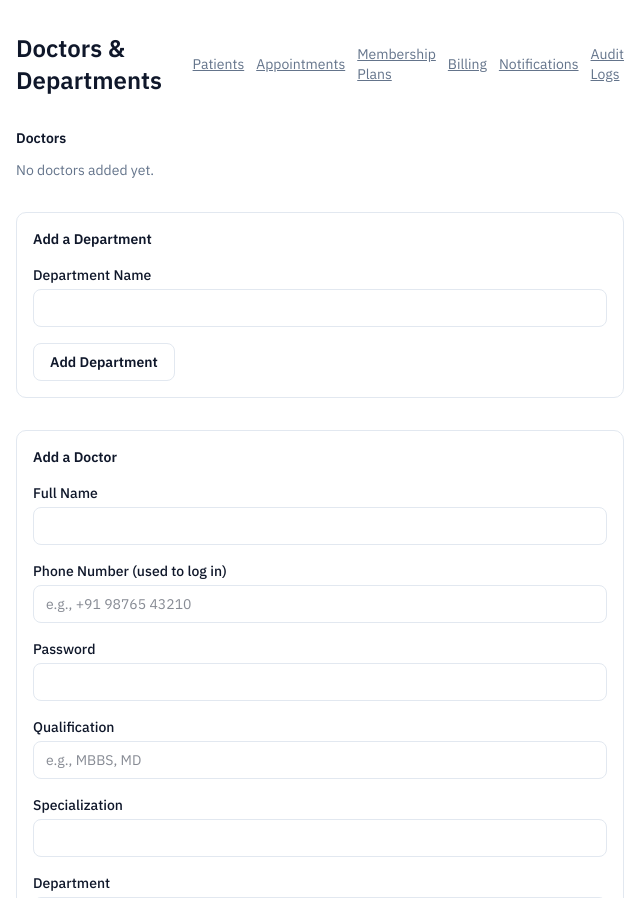
Scenario: AdminDoctorsPage › adds a new doctor
Step 1. Type "Dr. New Hire" into the field labelled "Full Name" → [320, 526], box [33,507,607,545]
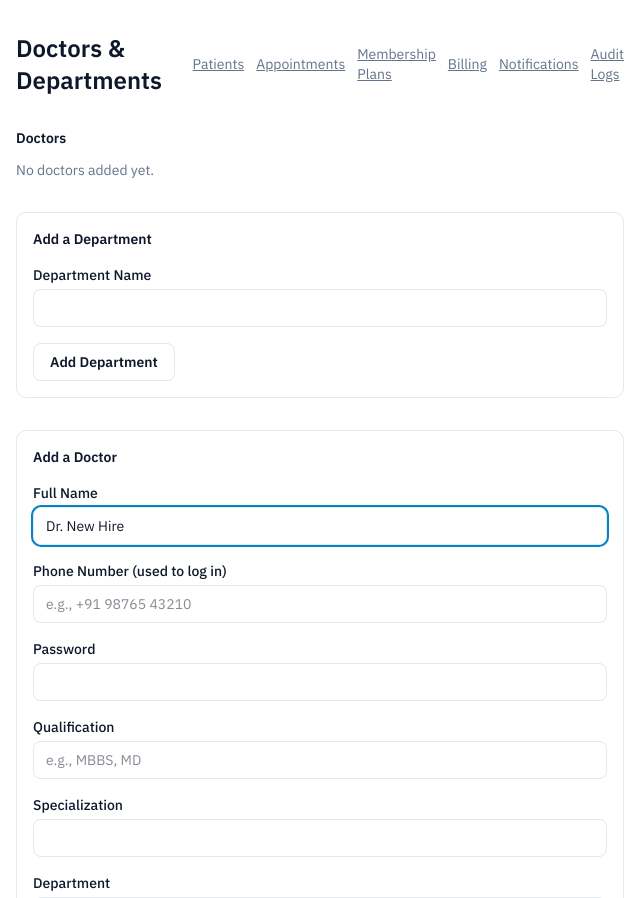
Step 2. Type "+919876500070" into the field labelled "Phone Number (used to log in)" → [320, 604], box [33,585,607,623]
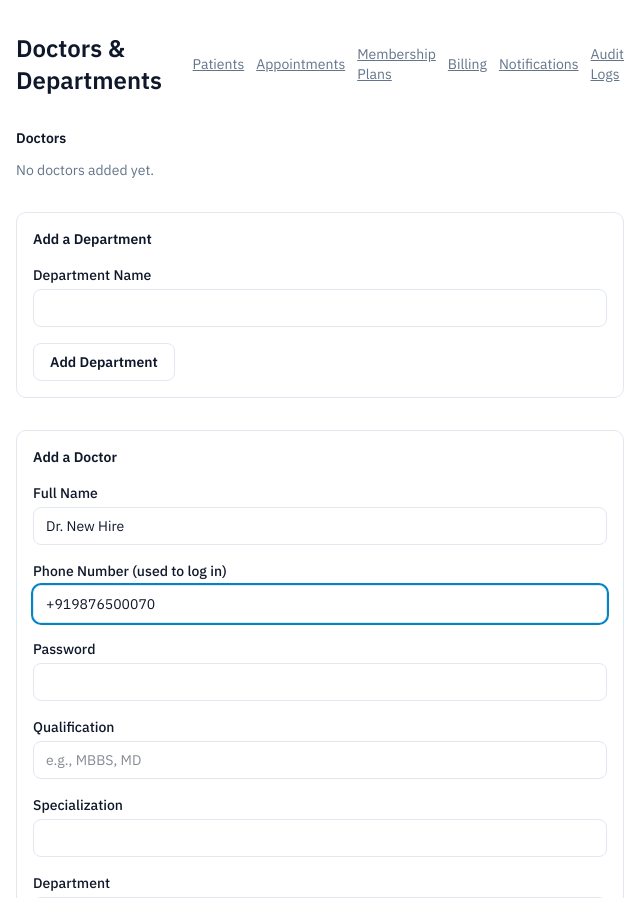
Step 3. Type "Doctor@123" into the password field labelled "Password" → [320, 682], box [33,663,607,701]
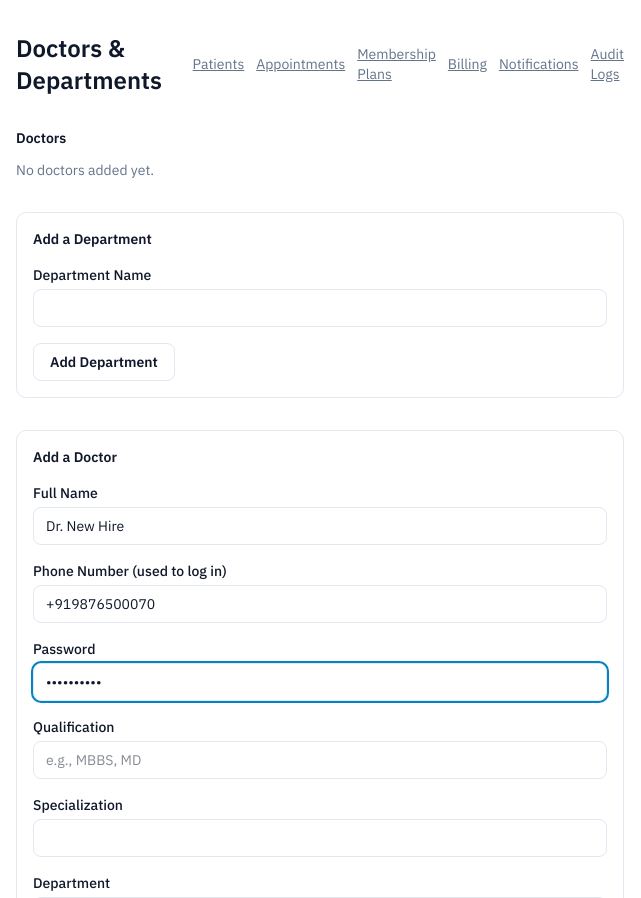
Step 4. Type "MBBS, MD" into the field labelled "Qualification" → [320, 760], box [33,741,607,779]
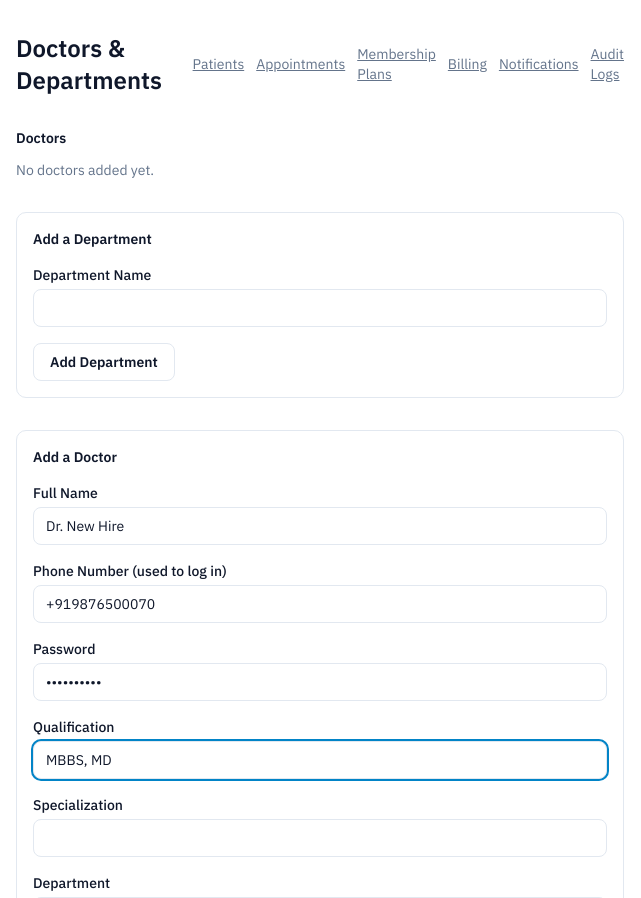
Step 5. Type "Neurologist" into the field labelled "Specialization" → [320, 838], box [33,819,607,857]
(page scrolled)
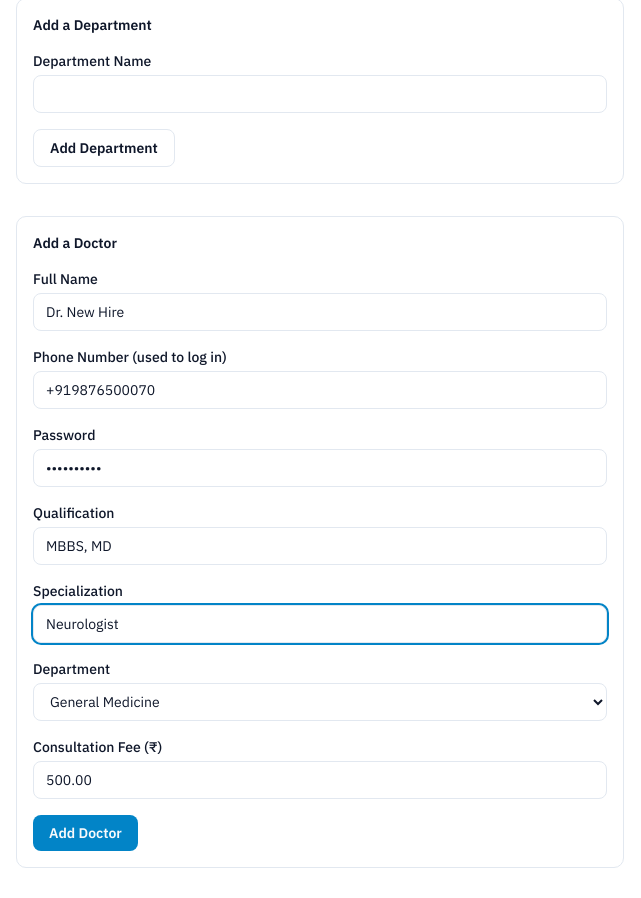
Step 6. Click the button "Add Doctor" → [85, 833], box [33,815,138,851]
(page scrolled)
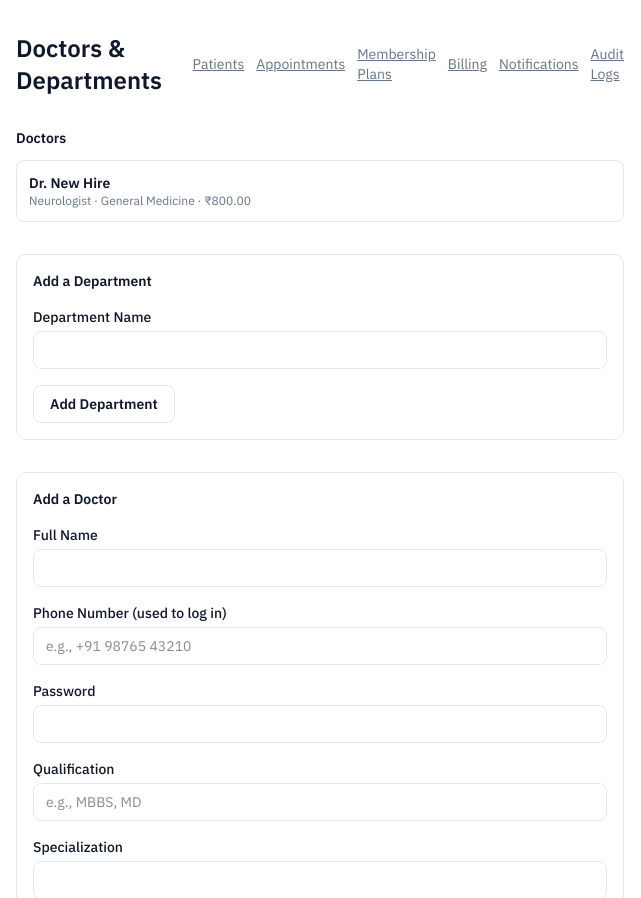
Expected: the text "Dr. New Hire" is shown, [29,174,110,192]
